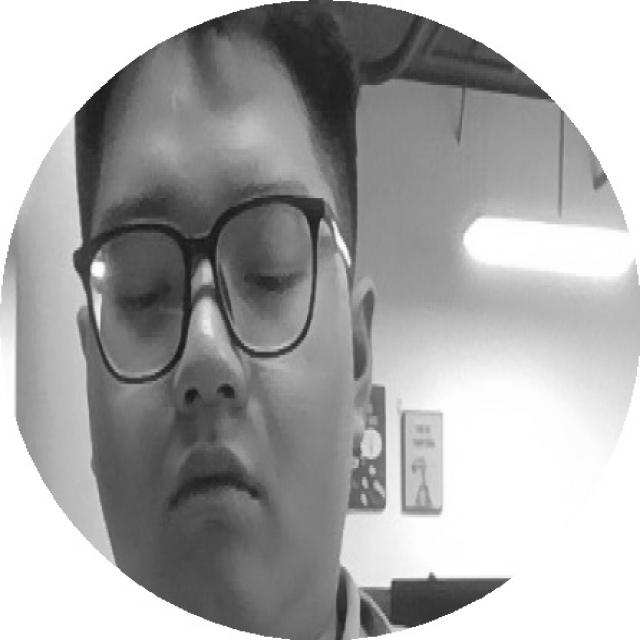real: (81, 40, 366, 640), (74, 190, 336, 350)
